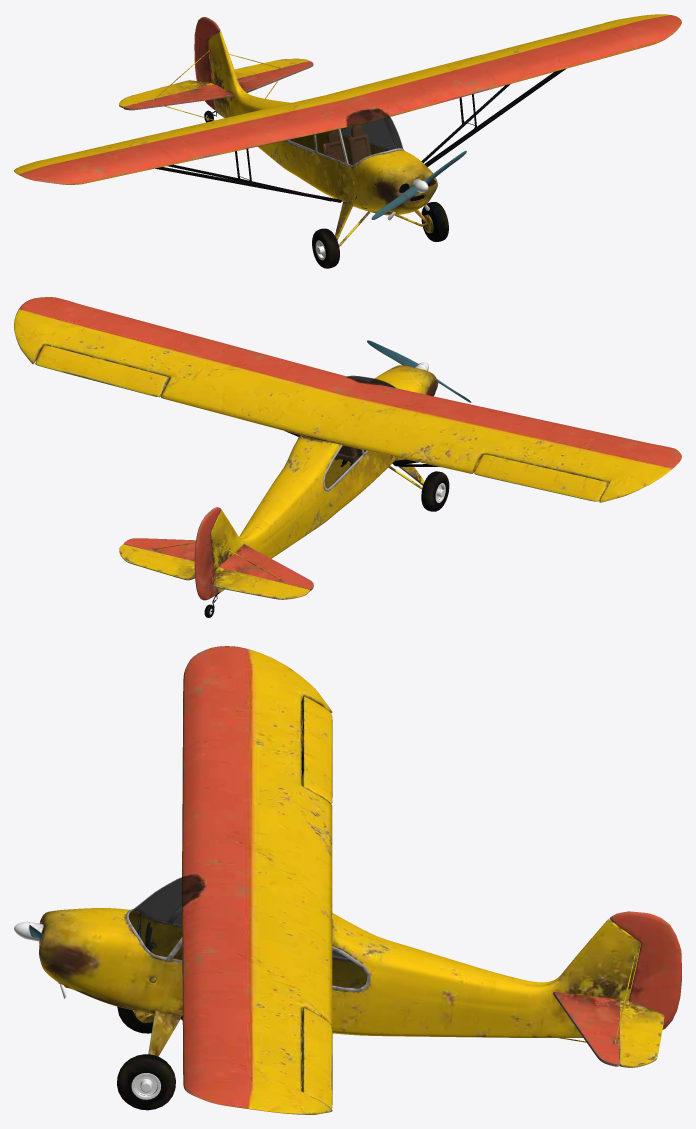
3 views of the same model, one above another, from view 1: azimuth 30°, elevation 25°; view 2: azimuth 150°, elevation 25°; view 3: azimuth 270°, elevation 25° (orthographic). The views are drawn at different scales.
Visible parts, largest first — view 1: plane_frame, plane_window, seats, plane_wheel2, plane_propeller.001, plane_wheel1; view 2: plane_frame, plane_window, plane_wheel2, plane_propeller.001; view 3: plane_frame, plane_window, plane_wheel1.
Boxes of the visible parts, box(x1,y1,x2,y2) form: plane_frame: box(14, 14, 681, 246); plane_window: box(289, 109, 402, 164); seats: box(323, 125, 371, 208); plane_wheel2: box(312, 228, 339, 268); plane_propeller.001: box(371, 151, 466, 219); plane_wheel1: box(421, 202, 448, 241); plane_frame: box(14, 297, 681, 617); plane_window: box(324, 375, 395, 488); plane_wheel2: box(421, 471, 449, 511); plane_propeller.001: box(367, 340, 471, 402); plane_frame: box(39, 646, 681, 1114); plane_window: box(128, 874, 366, 988); plane_wheel1: box(117, 1054, 175, 1110).
Bounding box in the file's own units: 12.35 × 2.46 × 7.57.
Materials: 10 (5 with a texture image).
